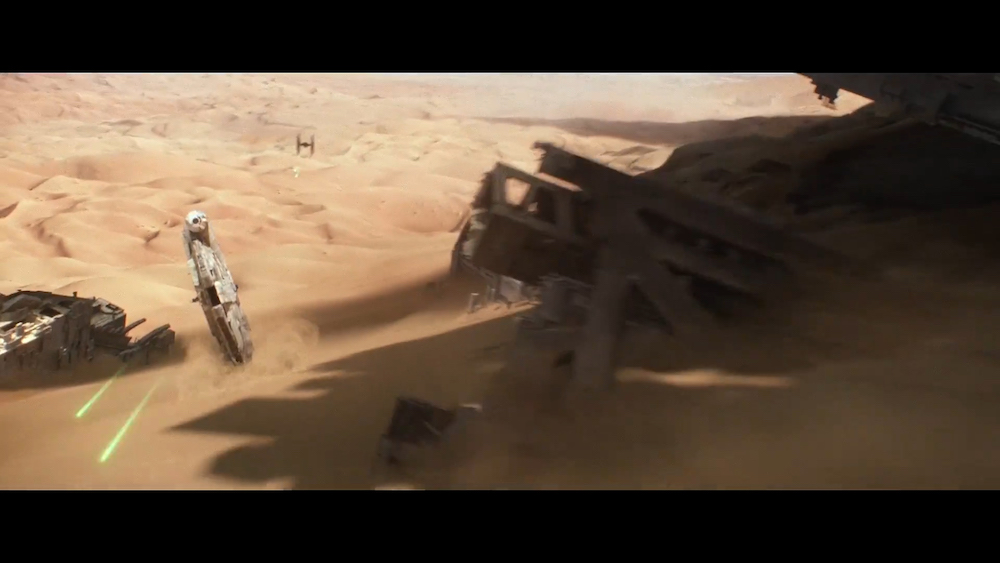Millennium Falcon: (182, 211, 255, 375)
Tie Fighter: (297, 133, 316, 158)
